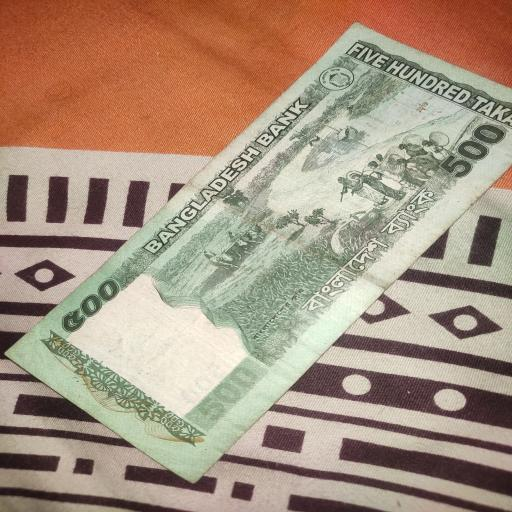500taka: (3, 19, 512, 484)
